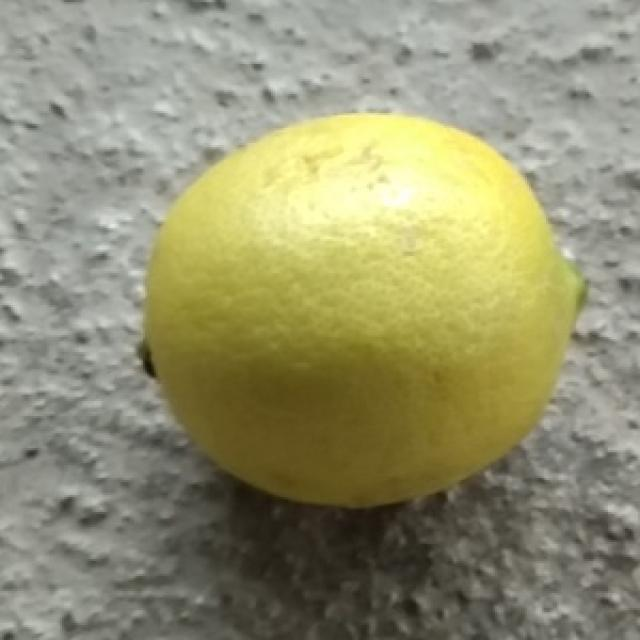Ripe: (133, 105, 587, 514)
